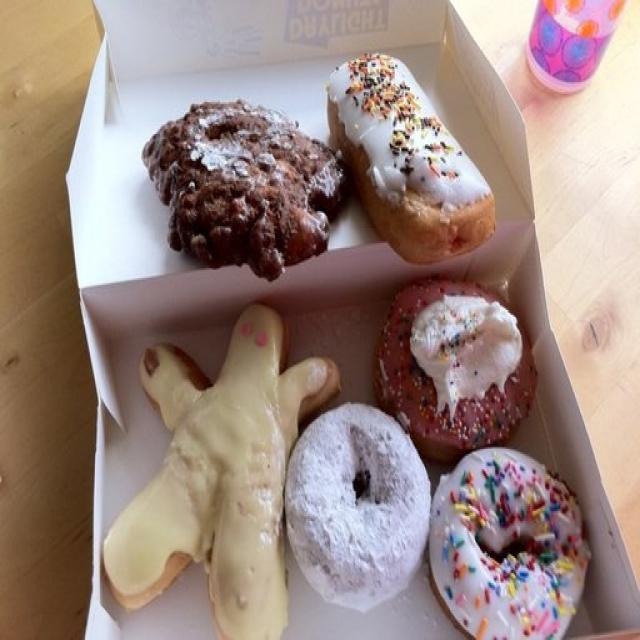Donuts: (101, 52, 590, 640)
